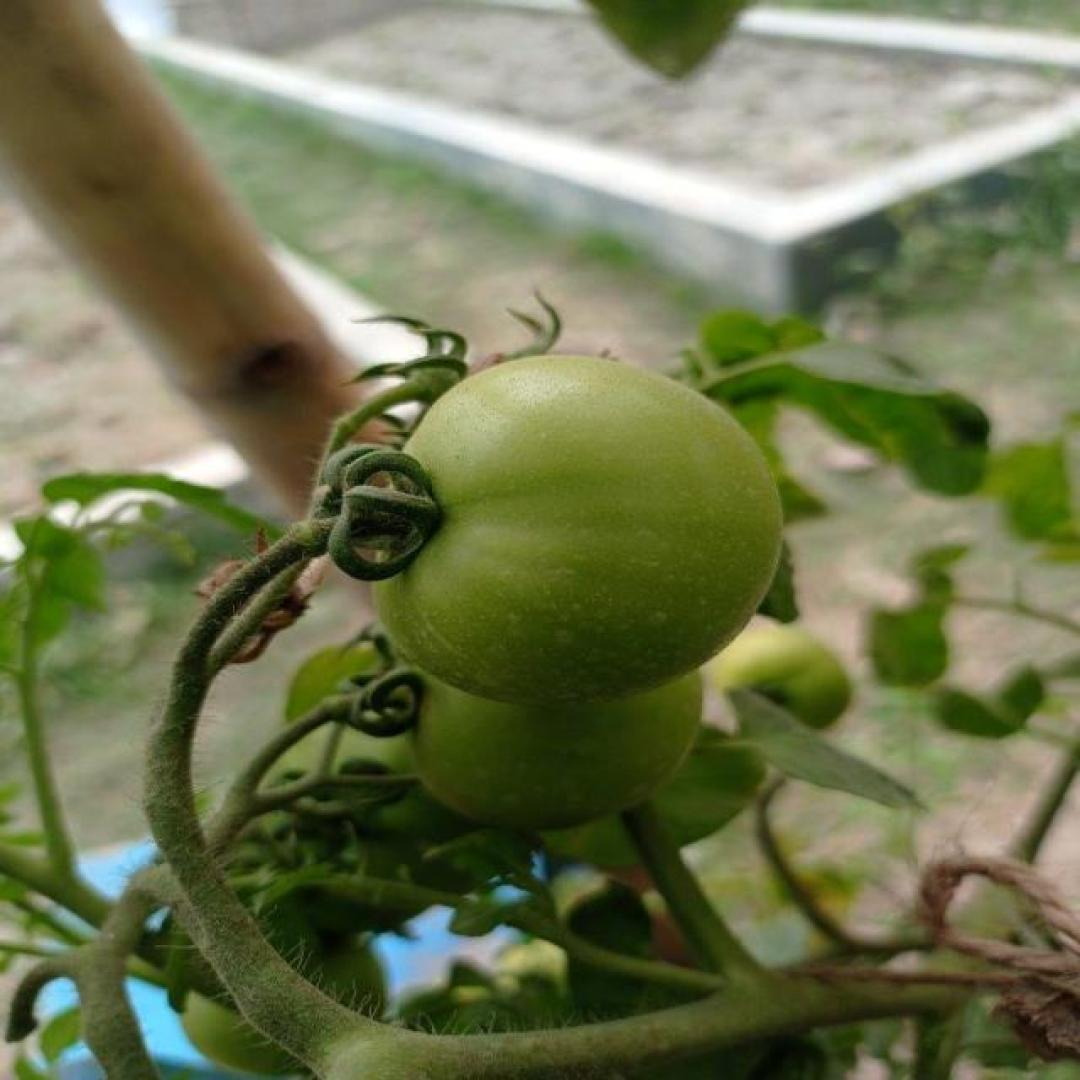mentah: (366, 351, 783, 705)
